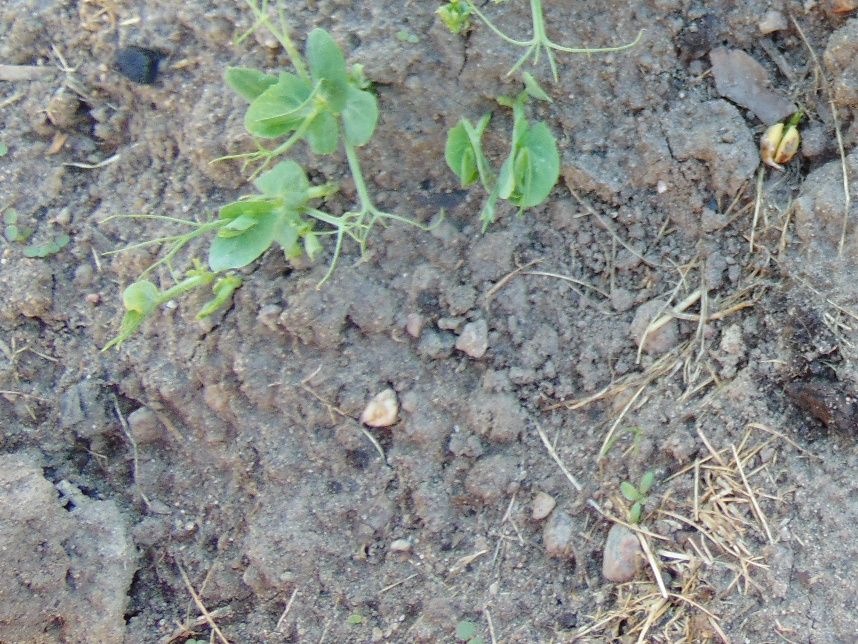crop: (203, 1, 415, 266), (96, 162, 339, 350), (444, 74, 557, 235), (439, 1, 577, 67)
weed: (3, 206, 66, 259), (619, 469, 662, 520)
